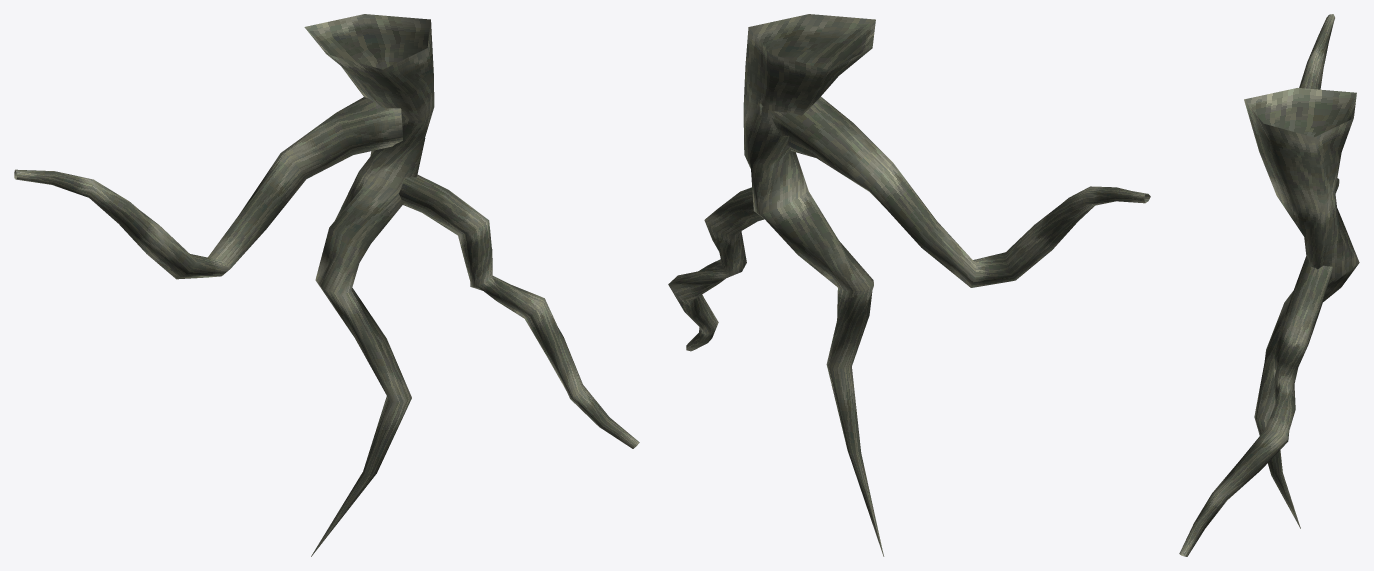
Rendered from INST_TROLLHOLE_ROOTB.fbx.
3 views of the same model, side by side, from view 1: azimuth 30°, elevation 25°; view 2: azimuth 150°, elevation 25°; view 3: azimuth 270°, elevation 25° (orthographic). The views are drawn at different scales.
Parts seen in each view (by area): view 1: INST_TROLLHOLE_ROOTB; view 2: INST_TROLLHOLE_ROOTB; view 3: INST_TROLLHOLE_ROOTB.
Part boxes in pixels (x1,y1,x2,y2): INST_TROLLHOLE_ROOTB: [14, 14, 639, 556]; INST_TROLLHOLE_ROOTB: [668, 14, 1150, 556]; INST_TROLLHOLE_ROOTB: [1179, 14, 1359, 556].
Size of the model in its own units: 64743 by 57240 by 20930.
1 material, 1 textured.
